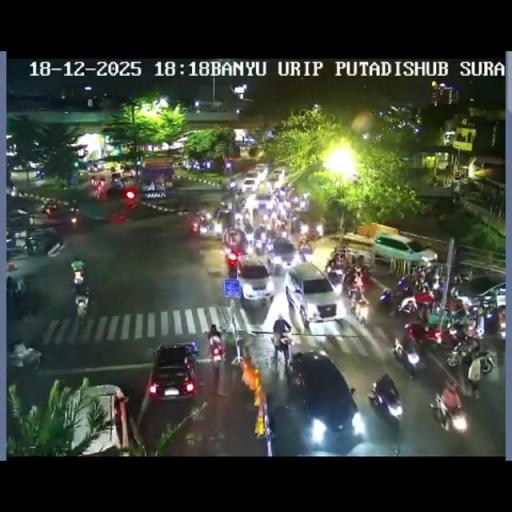Car: (284, 352, 358, 434), (70, 386, 130, 455), (285, 261, 340, 324), (148, 343, 198, 400), (372, 233, 438, 266), (235, 254, 272, 300), (141, 158, 174, 195), (222, 228, 247, 258), (42, 198, 76, 218), (106, 173, 127, 197), (241, 177, 260, 193), (256, 190, 274, 206), (252, 164, 270, 178), (268, 168, 285, 182), (86, 160, 104, 172)
Motorcycle: (370, 375, 403, 454), (430, 383, 467, 431), (448, 338, 494, 374), (390, 334, 421, 378), (394, 288, 436, 318), (7, 341, 42, 373), (431, 274, 466, 299), (483, 302, 506, 340), (440, 306, 470, 334), (31, 230, 63, 255), (272, 330, 292, 368), (344, 266, 366, 298), (260, 406, 278, 444), (352, 290, 370, 326), (378, 287, 399, 317), (207, 325, 223, 361), (74, 285, 90, 320), (326, 263, 346, 288), (6, 274, 26, 298), (301, 224, 322, 246), (70, 255, 85, 284), (268, 254, 287, 276), (196, 212, 214, 235), (330, 248, 348, 268), (298, 241, 314, 263), (466, 374, 480, 399), (395, 273, 412, 293), (4, 236, 18, 259), (90, 178, 106, 198), (226, 252, 238, 278), (456, 267, 473, 284), (260, 234, 274, 254), (416, 276, 430, 294), (24, 236, 36, 256), (348, 388, 358, 412), (295, 194, 309, 211), (289, 211, 301, 230), (218, 196, 233, 211), (69, 208, 81, 226), (242, 210, 252, 230), (244, 229, 254, 247), (214, 220, 223, 235), (234, 210, 243, 225), (278, 227, 288, 240), (130, 166, 136, 178)
